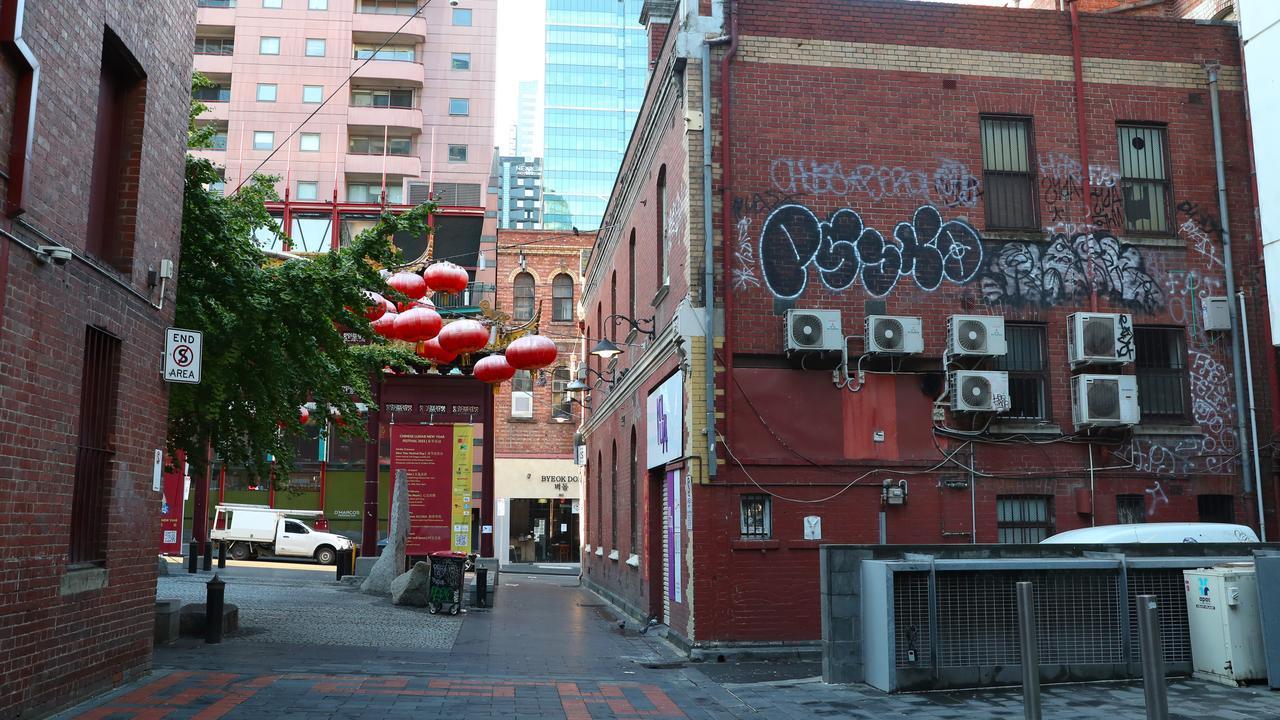graffiti: (736, 172, 1163, 311), (1181, 195, 1250, 477), (770, 158, 980, 206), (1039, 153, 1127, 232), (1120, 425, 1171, 486)
